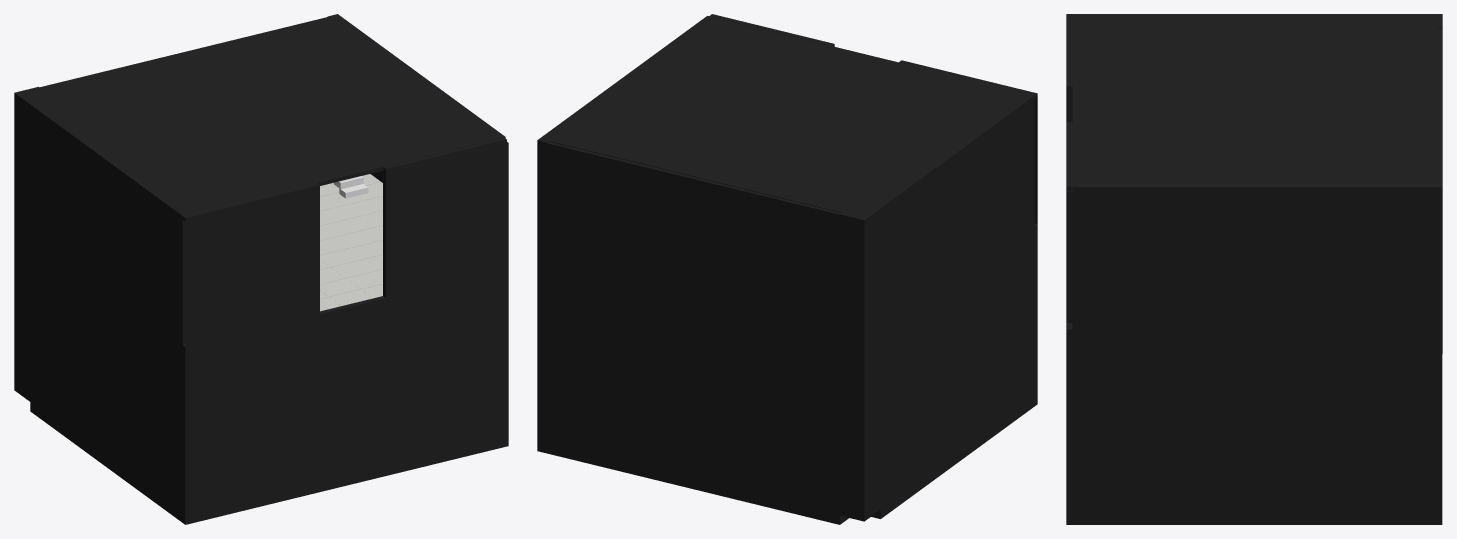
The picture shows the model from 3 angles, left to right: view 1: azimuth 30°, elevation 25°; view 2: azimuth 150°, elevation 25°; view 3: azimuth 270°, elevation 25°; orthographic projection. The views are drawn at different scales.
Parts seen in each view (by area): view 1: Cube.001, Mermer.002; view 2: Cube.001; view 3: Cube.001.
Part boxes in pixels (x1,y1,x2,y2): Cube.001: [14, 14, 508, 524]; Mermer.002: [320, 174, 382, 311]; Cube.001: [537, 14, 1037, 524]; Cube.001: [1066, 14, 1442, 524].
Bounding box in the file's own units: 138 × 125 × 127.
